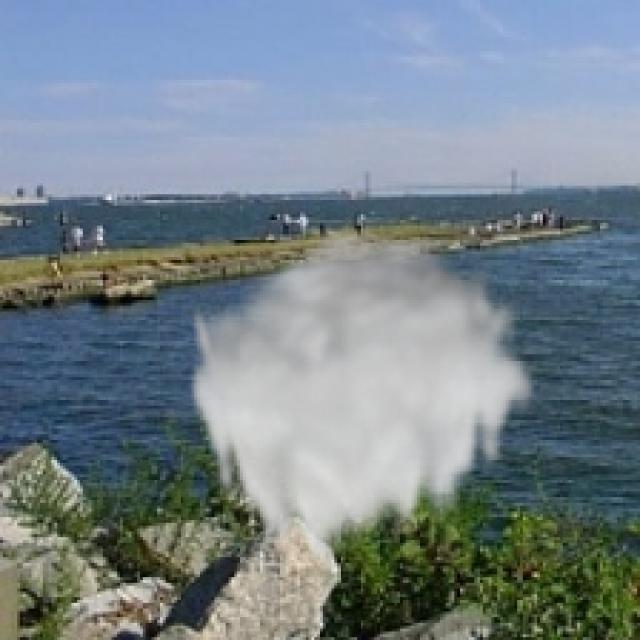smoke: (186, 223, 540, 580)
